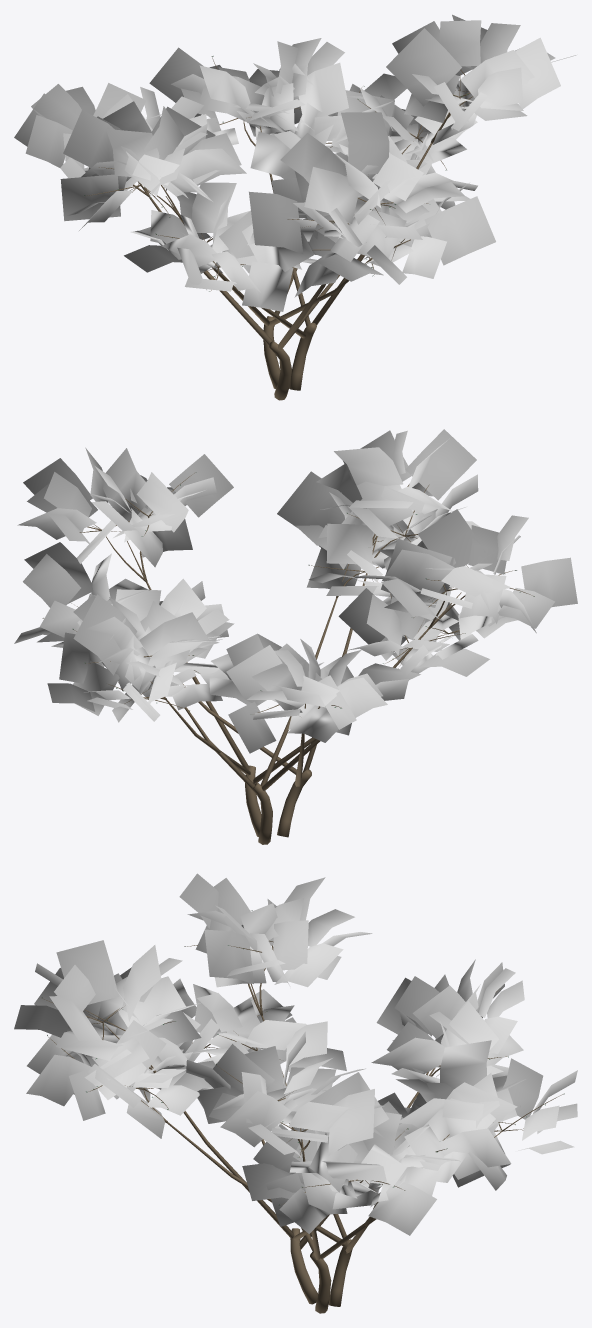
File: V7_Genevrier_0_Niveau0.fbx
3 renders of one model, top to bottom at view 1: azimuth 30°, elevation 25°; view 2: azimuth 150°, elevation 25°; view 3: azimuth 270°, elevation 25°, orthographic. The views are drawn at different scales.
Parts seen in each view (by area): view 1: V7_Genevrier_0; view 2: V7_Genevrier_0; view 3: V7_Genevrier_0.
Boxes of the visible parts, bbox=[...] form: V7_Genevrier_0: bbox=[14, 14, 576, 400]; V7_Genevrier_0: bbox=[14, 429, 577, 844]; V7_Genevrier_0: bbox=[14, 873, 577, 1313].
Bounding box in the file's own units: 330 × 205 × 300.
